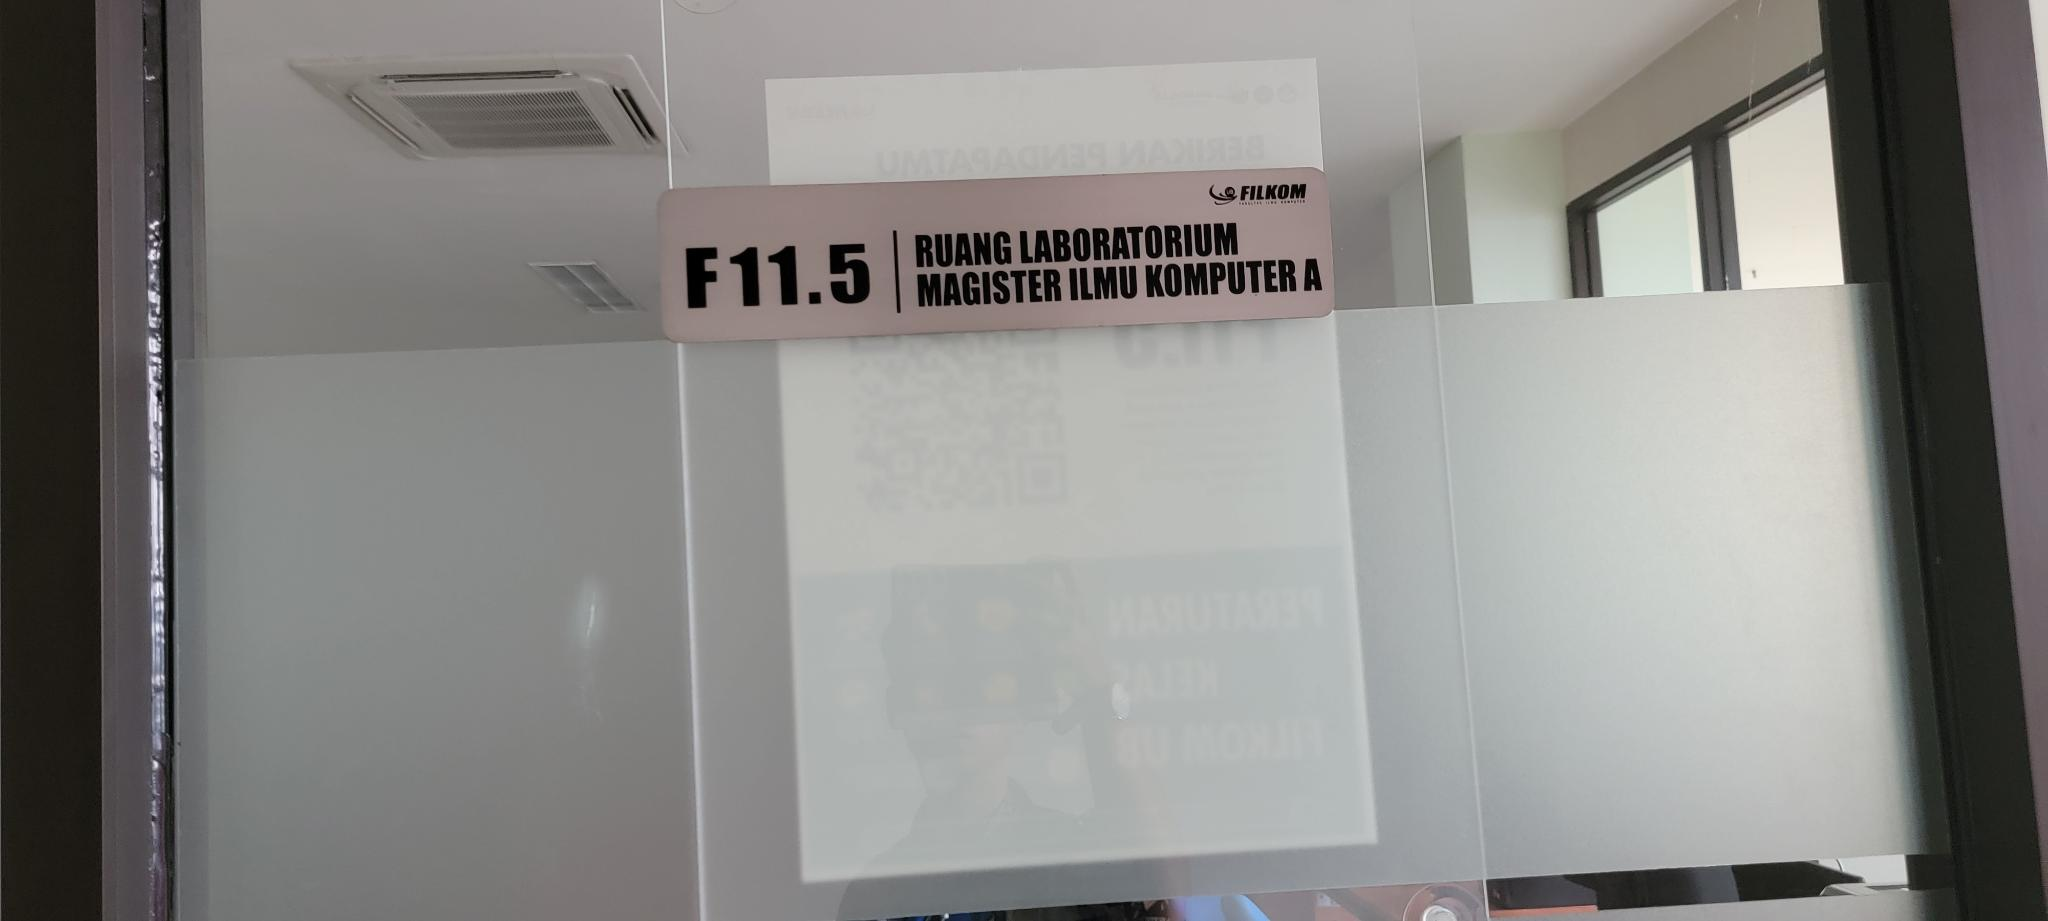plate: (654, 167, 1335, 342)
